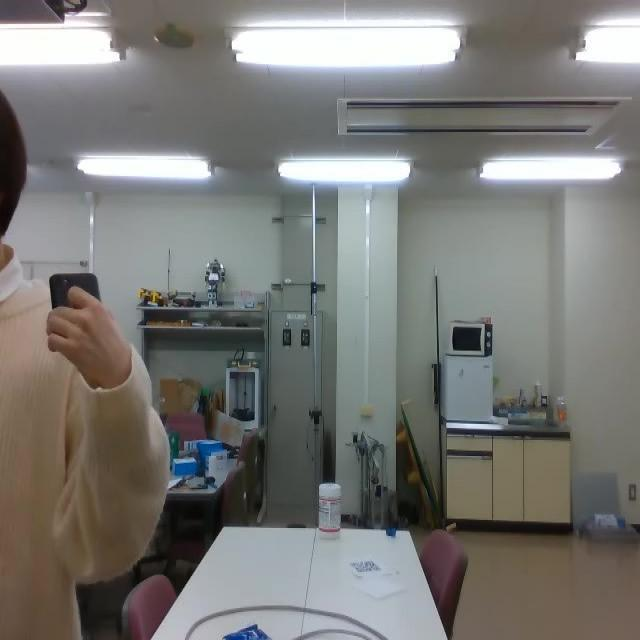Phone: (48, 270, 104, 314)
